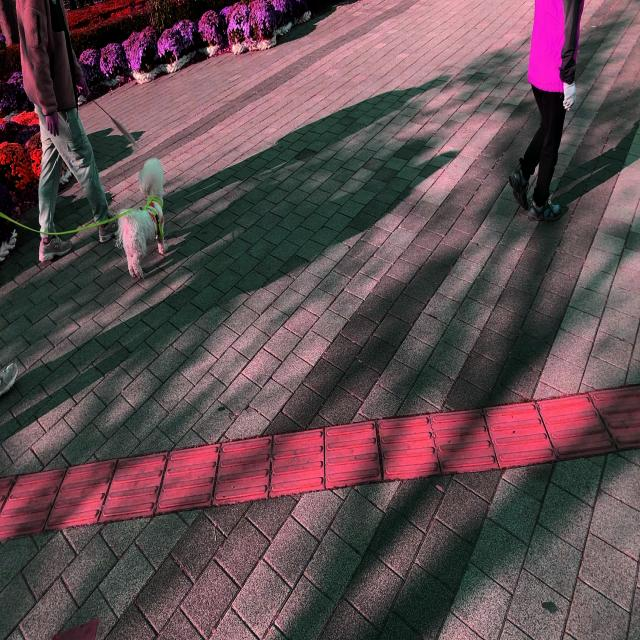Dog: (116, 156, 167, 286)
